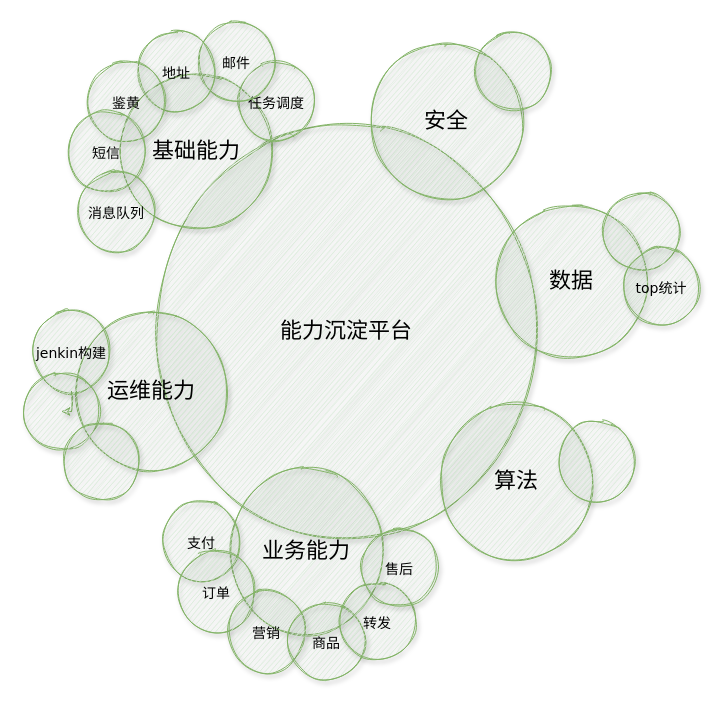
Some shapes in this 725 by 706 pixel diagram are drawn without their labels. The shapes that lost their labels are listed below. From the top down, each one's centre as x and y in pixels, then its label:
At (514,72): "风控".
At (642,232): "总量统计".
At (62,412): "snoar扫描".
At (102,462): "容器支持".
At (597,462): "个性推荐".
